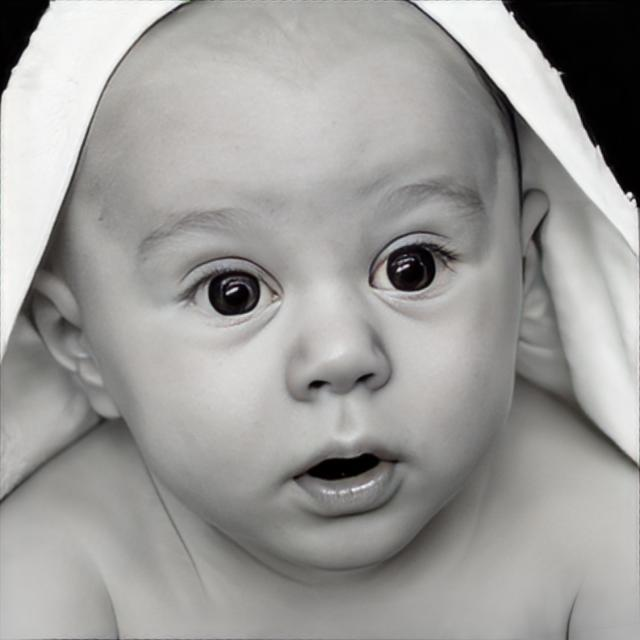surprise: (54, 0, 522, 572)
